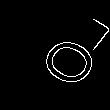O_NW: (18, 23, 92, 87)
